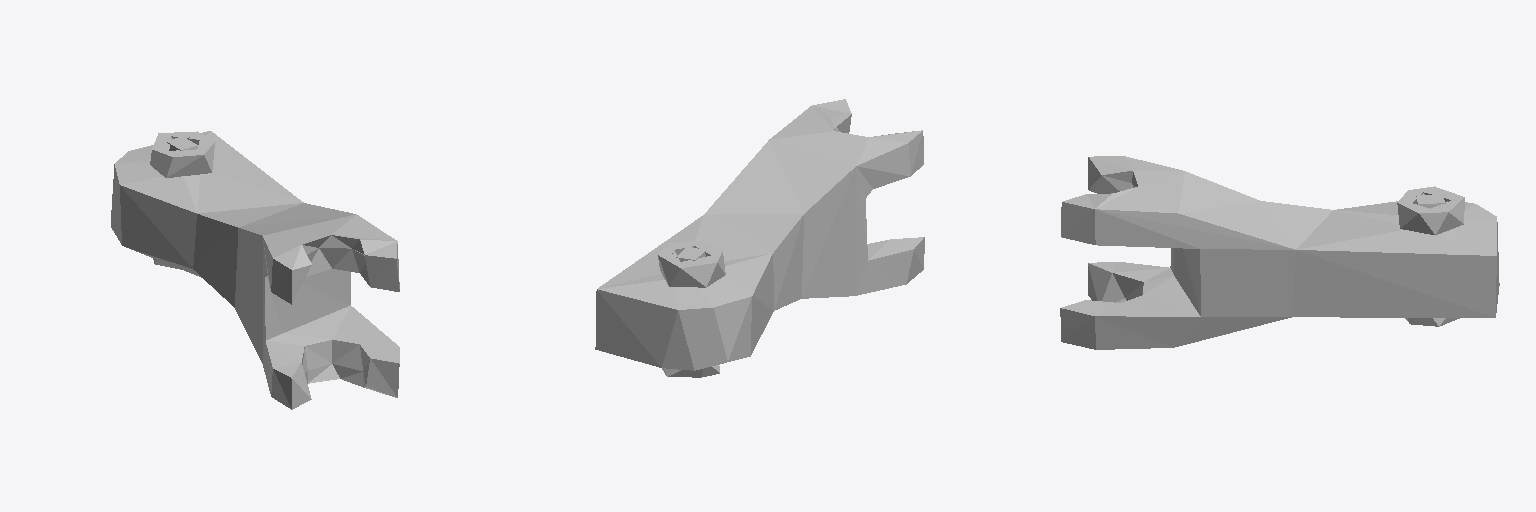
File: right_collision_index_pp_mesh_mesh.obj
3 renders of one model, left to right at view 1: azimuth 30°, elevation 25°; view 2: azimuth 150°, elevation 25°; view 3: azimuth 270°, elevation 25°, orthographic.
Bounding box in the file's own units: 0.0177 × 0.019 × 0.0521.